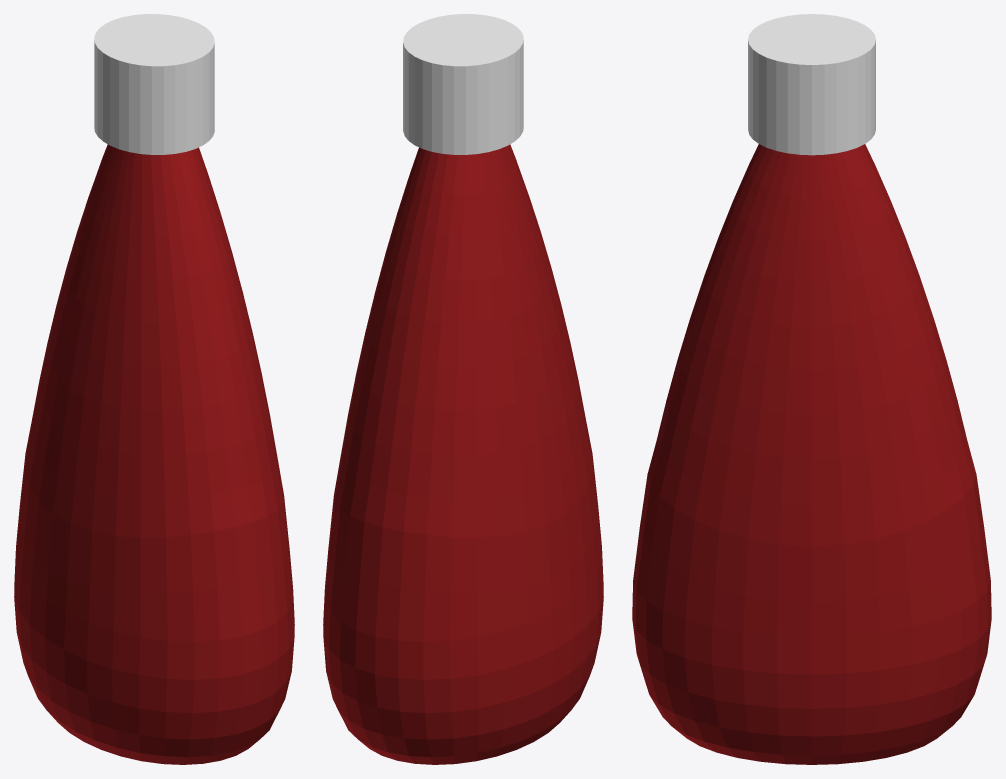
The model's file is ketchaplane.fbx.
3 renders of one model, left to right at view 1: azimuth 30°, elevation 25°; view 2: azimuth 150°, elevation 25°; view 3: azimuth 270°, elevation 25°, orthographic.
Parts seen in each view (by area): view 1: Cylinder, Cylinder.001; view 2: Cylinder, Cylinder.001; view 3: Cylinder, Cylinder.001.
Boxes of the visible parts, x1,y1,x2,y2 form: Cylinder: [14, 144, 294, 764]; Cylinder.001: [94, 14, 214, 154]; Cylinder: [323, 144, 603, 764]; Cylinder.001: [403, 14, 523, 154]; Cylinder: [632, 144, 991, 764]; Cylinder.001: [748, 14, 875, 155].
Size of what is drawn, in the model's own units: 1.34 by 3.95 by 1.87.
